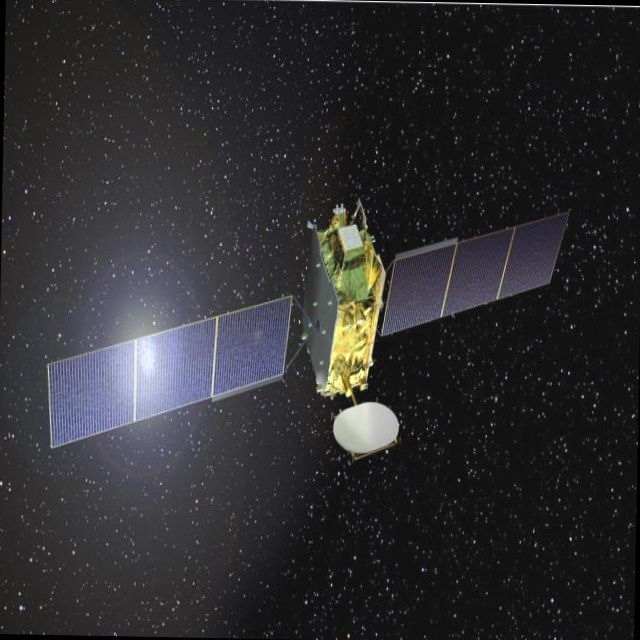satellite: (33, 165, 583, 483)
